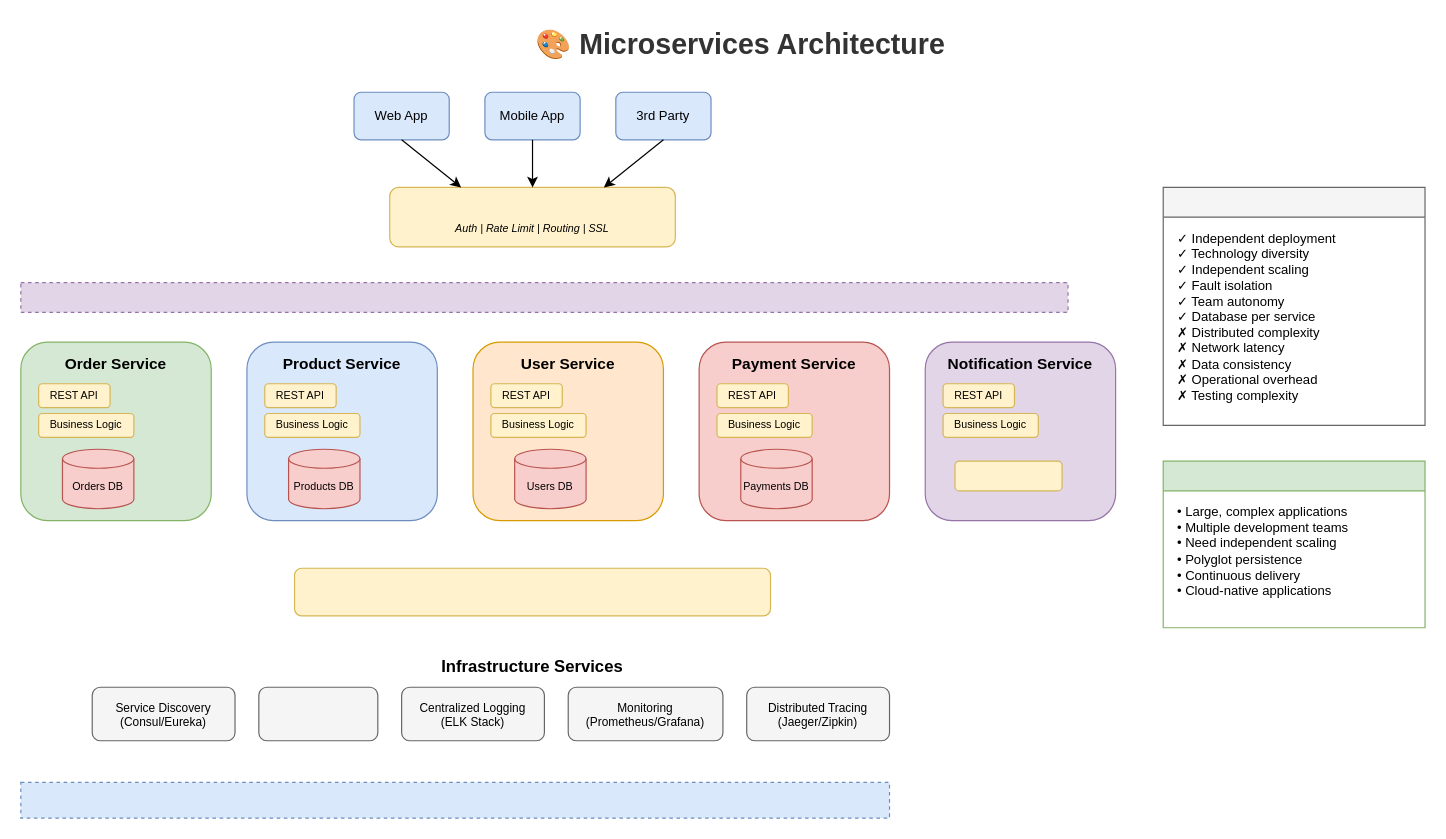
Image size: 1446x839. Some labels were removed from this diagram. Each missing label, with the box of its shape:
API Gateway: (389, 186, 675, 247)
Best For: (1162, 460, 1425, 628)
Characteristics: (1162, 186, 1425, 425)
Config Server: (258, 686, 378, 741)
Container Orchestration (Kubernetes): (20, 781, 890, 818)
Message Broker (Kafka / RabbitMQ): (293, 567, 771, 616)
Message Queue: (954, 460, 1062, 491)
Service Mesh (Istio/Linkerd) - mTLS, Load Balancing, Circuit Breaker: (20, 281, 1068, 312)
